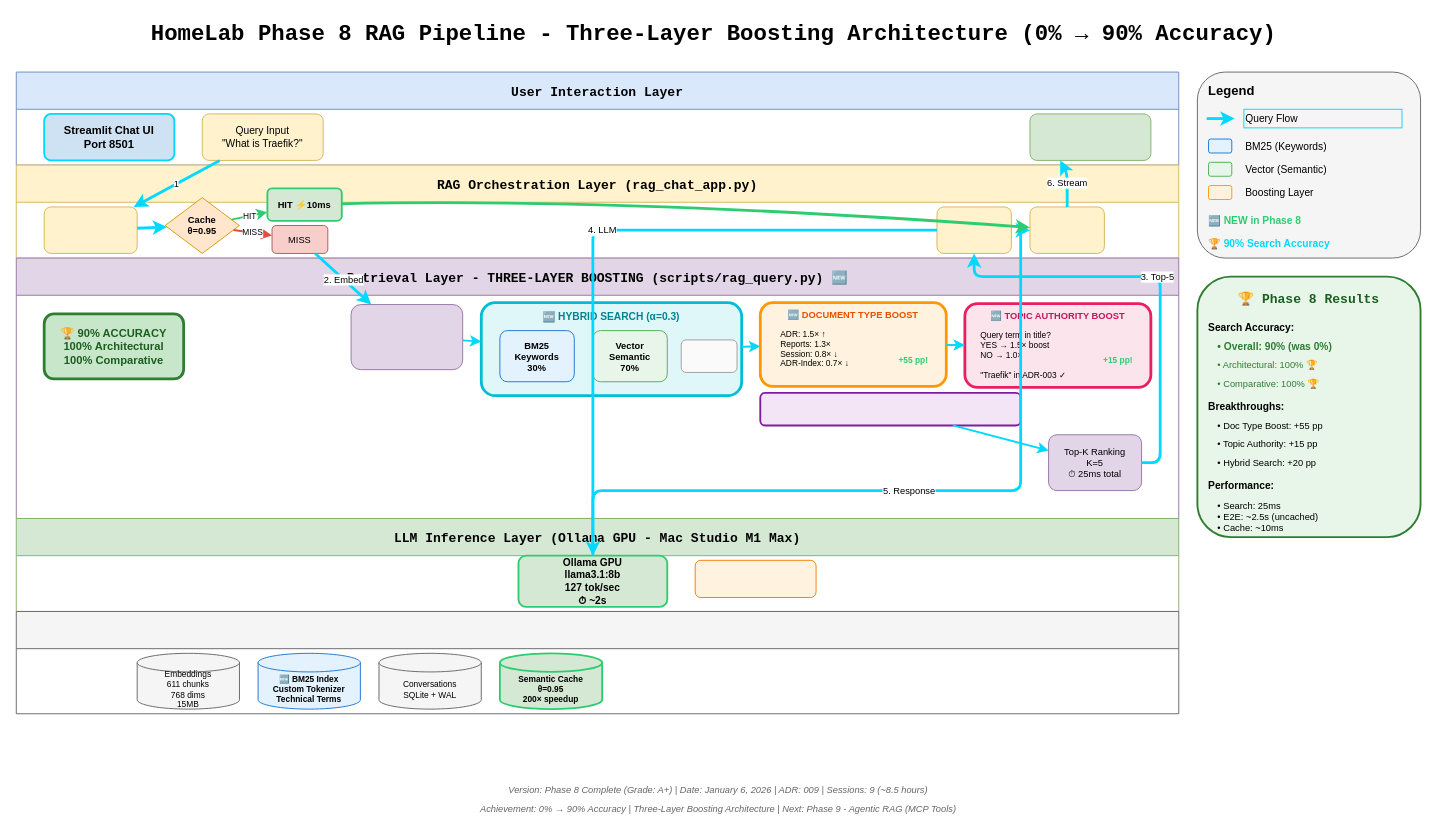
Image size: 1438x833. Some labels were removed from this diagram. Each missing label, with the box of its shape:
Context Assembly Top-5: (936, 206, 1011, 253)
Embedding nomic-embed-text 768 dimensions ⏱ ~200ms: (350, 304, 463, 370)
Fallback Rate: 40% (LLM conservative - OK): (694, 559, 816, 598)
final = hybrid × docType × topicAuth: (759, 392, 1021, 426)
Min-Max [0,1]: (680, 339, 737, 372)
Query Processing: (43, 206, 137, 253)
Response Display + Search Config: (1029, 113, 1151, 160)
Response Stream: (1029, 206, 1104, 253)
Storage Layer (NFS - Synology): (15, 611, 1179, 714)
